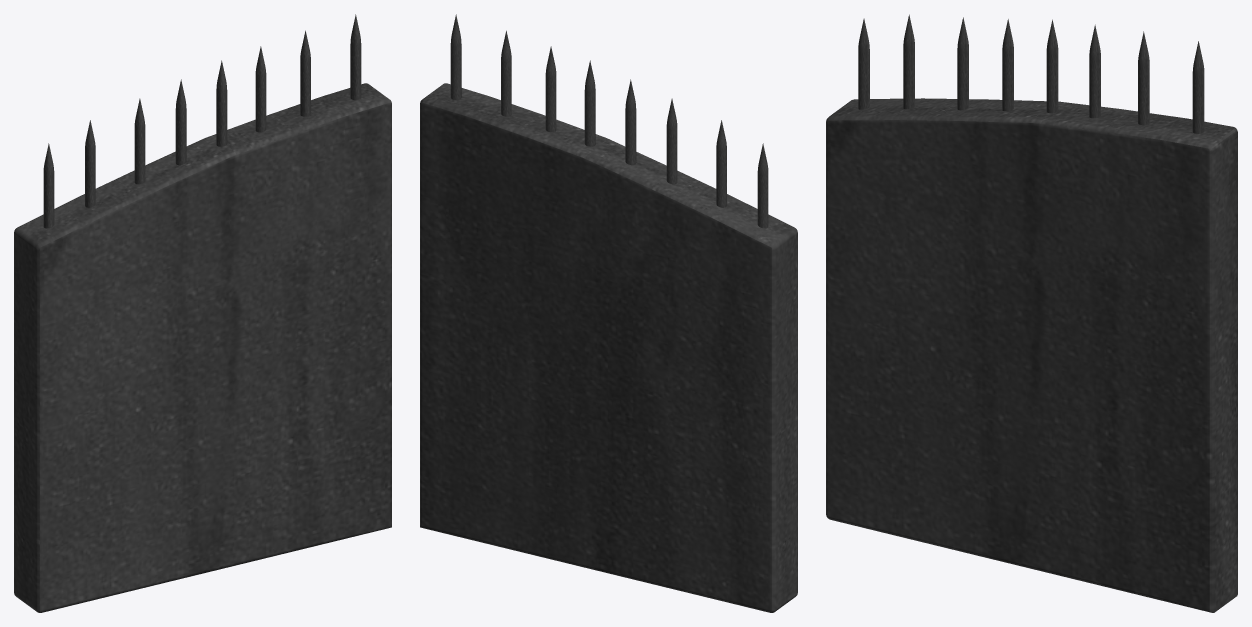
The model's file is GateDoor_Block.fbx.
3 views of the same model, side by side, from view 1: azimuth 30°, elevation 25°; view 2: azimuth 150°, elevation 25°; view 3: azimuth 330°, elevation 25° (orthographic). The views are drawn at different scales.
Visible parts, largest first — view 1: pCylinder9; view 2: pCylinder9; view 3: pCylinder9.
Boxes of the visible parts, x1,y1,x2,y2 form: pCylinder9: [14, 14, 391, 612]; pCylinder9: [420, 14, 797, 612]; pCylinder9: [826, 14, 1237, 612].
Size of the model in its own units: 200 by 275 by 25.38.
1 material, 1 textured.
